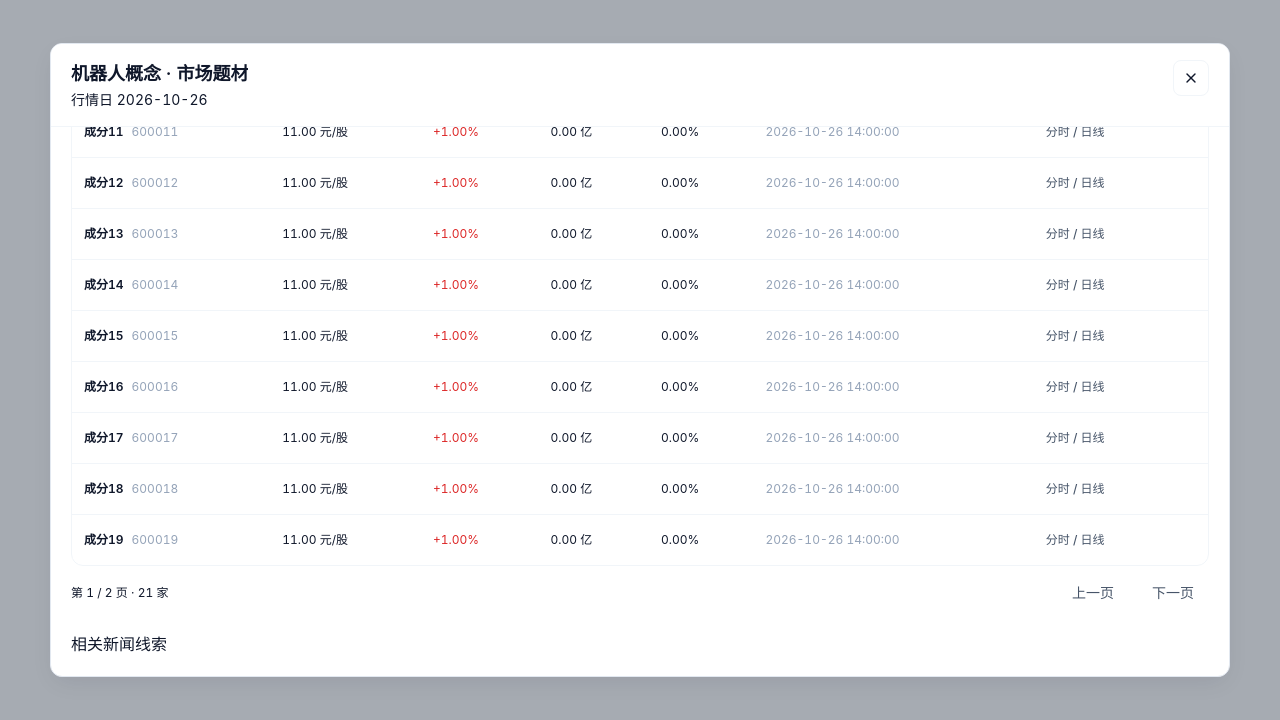
MarketThemeDetailOverlay › paginates the actual members without changing the complete member count
This screenshot has width=1280, height=720.
(page scrolled)
Click the button "下一页".
click(1173, 593)  # box [1137,574,1209,612]
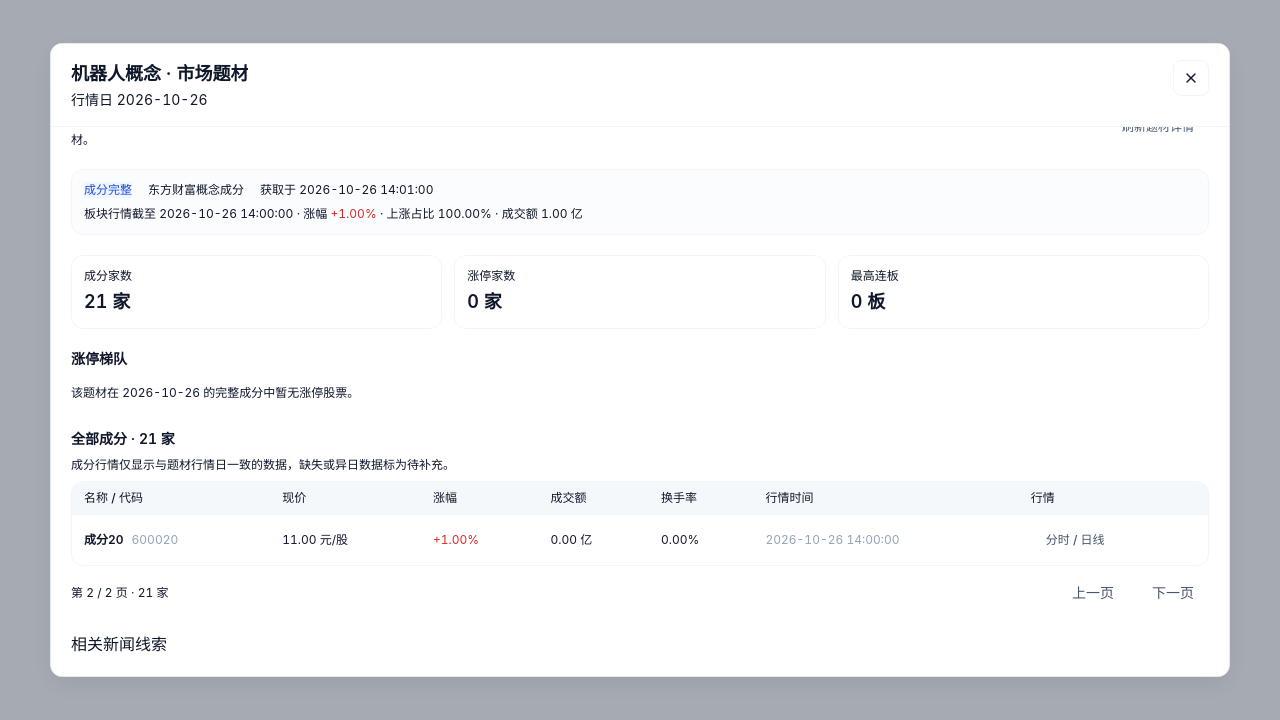
Expected: the text "成分20" is shown, [84,532,124,547]
Expected: the text "第 2 / 2 页" is shown, [71,585,168,601]
